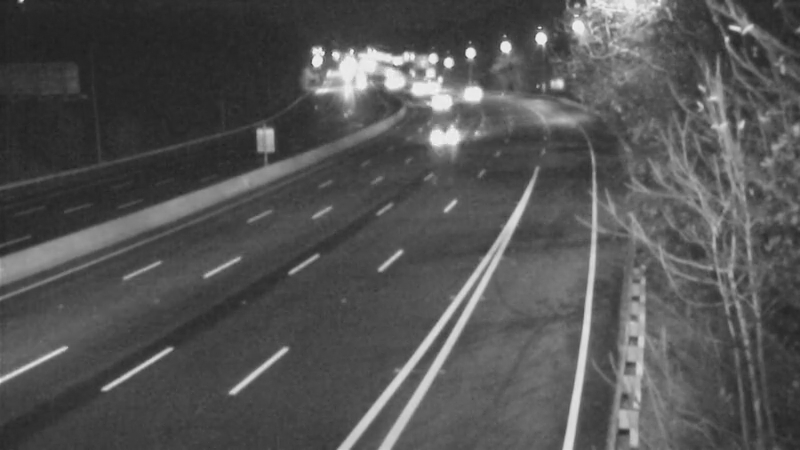vehicle: (389, 64, 439, 114), (408, 60, 458, 110), (448, 69, 498, 119), (414, 78, 464, 128), (414, 111, 464, 161)
